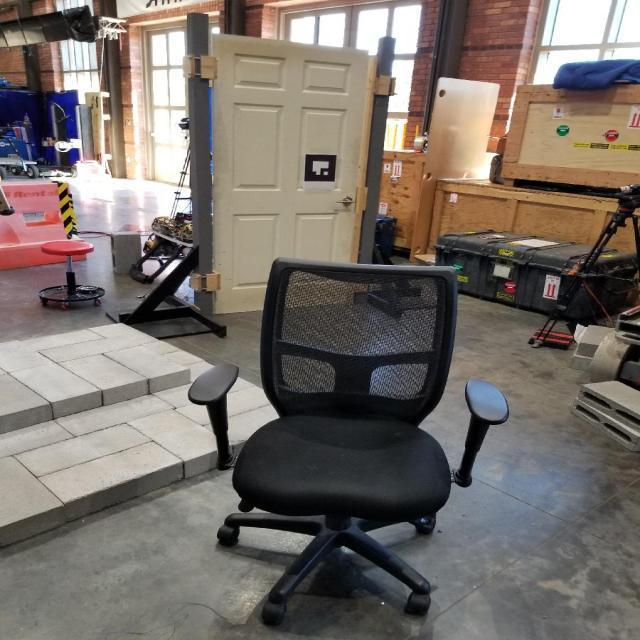door: (208, 30, 370, 316), (336, 193, 354, 208)
